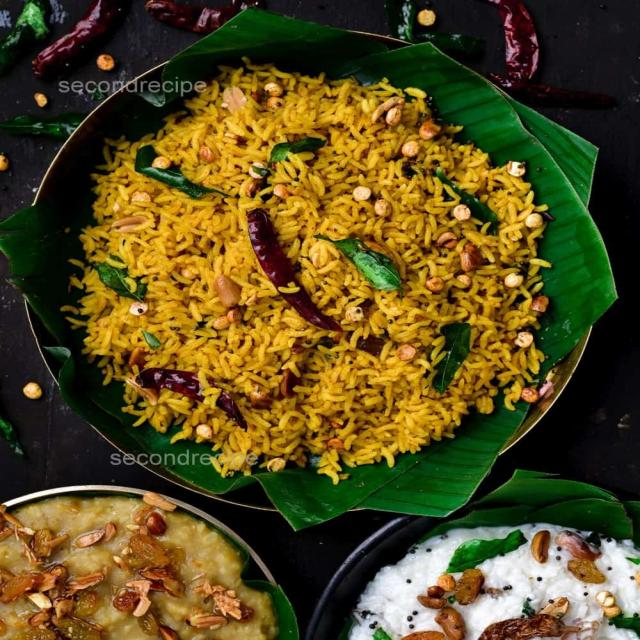puliyogare: (43, 43, 587, 496)
